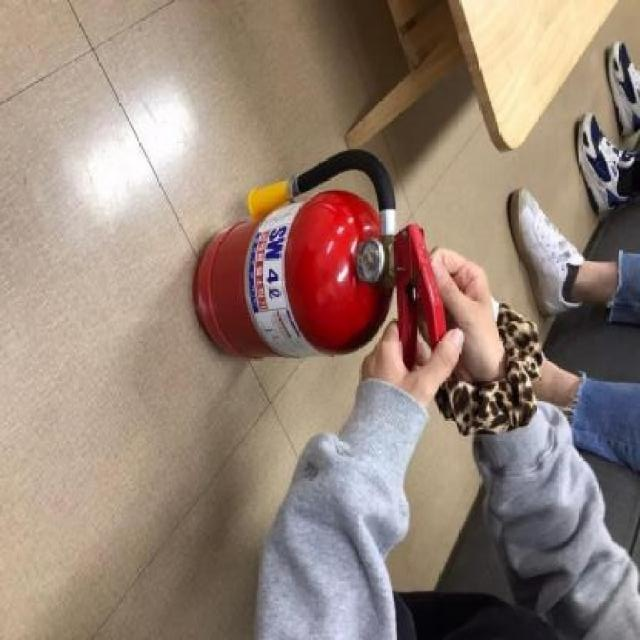fire extinguisher: (193, 149, 449, 374)
